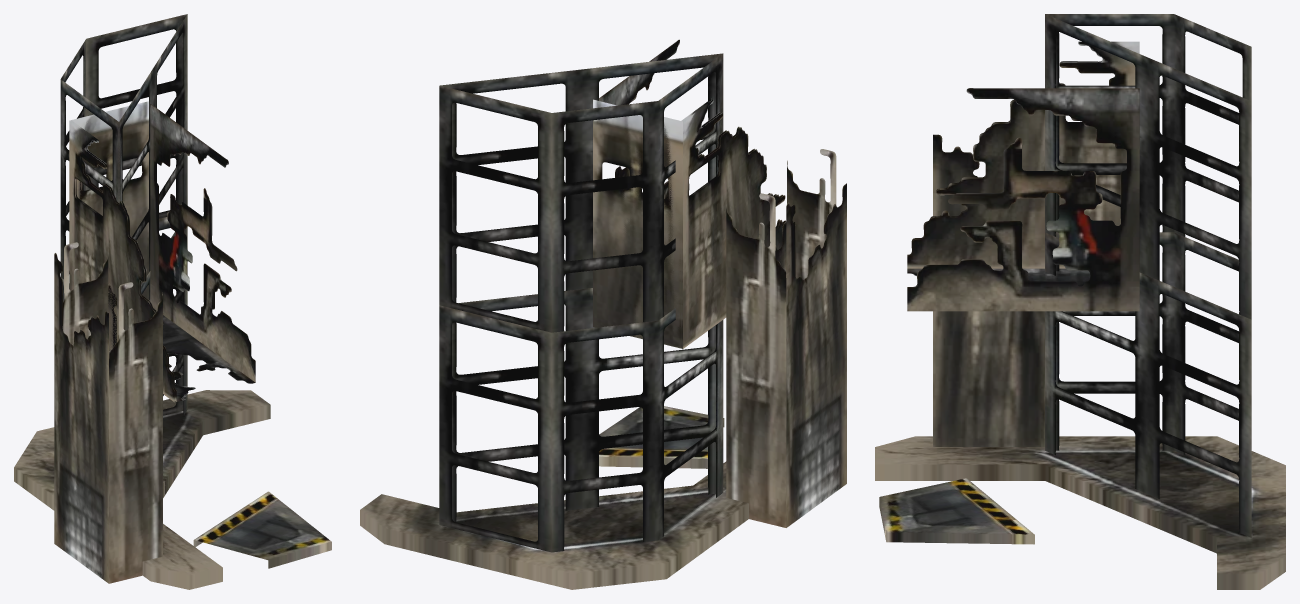
The model's file is gantry_dam_hdtex.glb.
3 renders of one model, left to right at view 1: azimuth 30°, elevation 25°; view 2: azimuth 150°, elevation 25°; view 3: azimuth 270°, elevation 25°, orthographic. The views are drawn at different scales.
Visible parts, largest first — view 1: GantryDam; view 2: GantryDam; view 3: GantryDam.
Part boxes in pixels (left/top/right/bottom): GantryDam: left=14, top=14, right=331, bottom=589; GantryDam: left=360, top=39, right=846, bottom=589; GantryDam: left=875, top=14, right=1285, bottom=589.
Bounding box in the file's own units: 18.45 × 24.88 × 20.49.
Materials: 1 (1 with a texture image).
